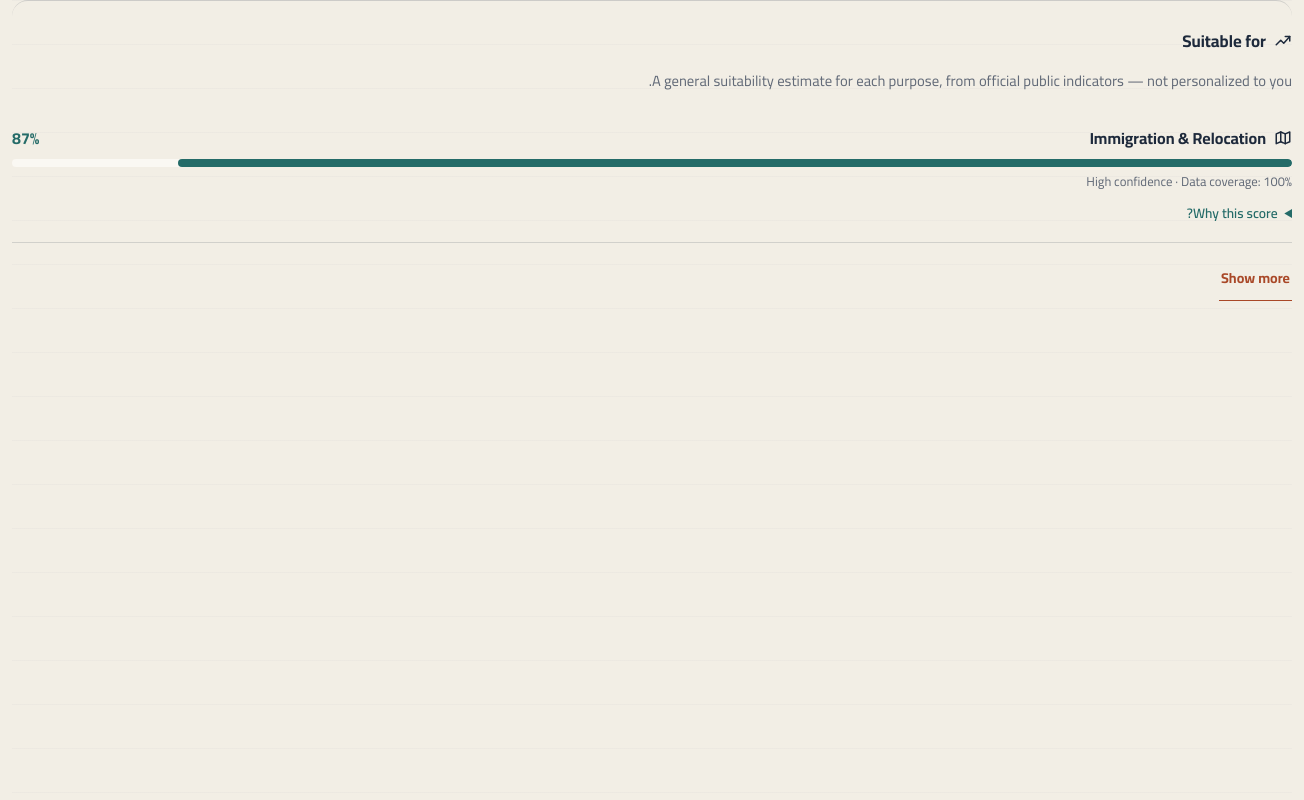
Test: CountrySuitability — highest purpose first with progressive disclosure › reveals every remaining purpose in descending score order, then collapses them again
The width and height of the screenshot is (1304, 800).
Click the button "Show more" at (1256, 279), box [1219,257,1292,301]
(page scrolled)
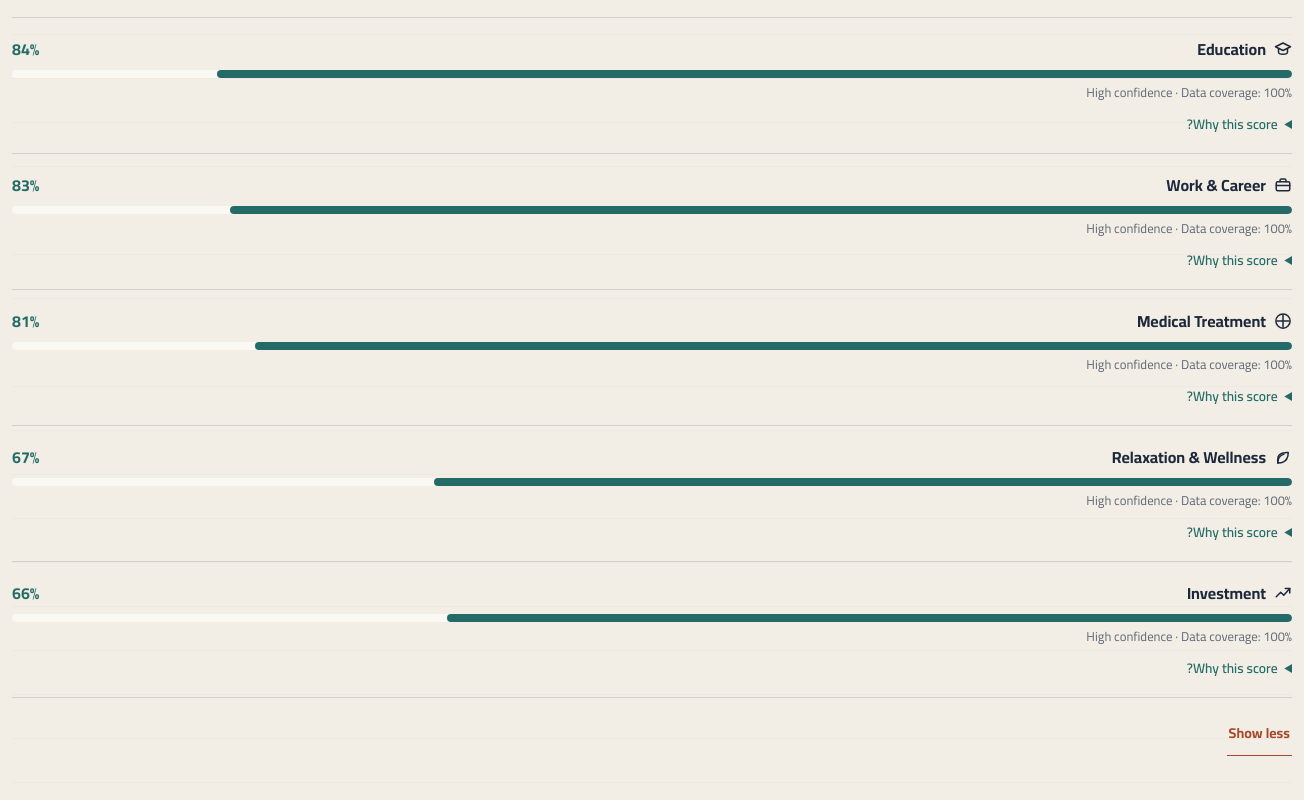
Check: the button "Show less" is expanded
Click the button "Show less" at (1259, 734), box [1227,712,1292,756]
(page scrolled)
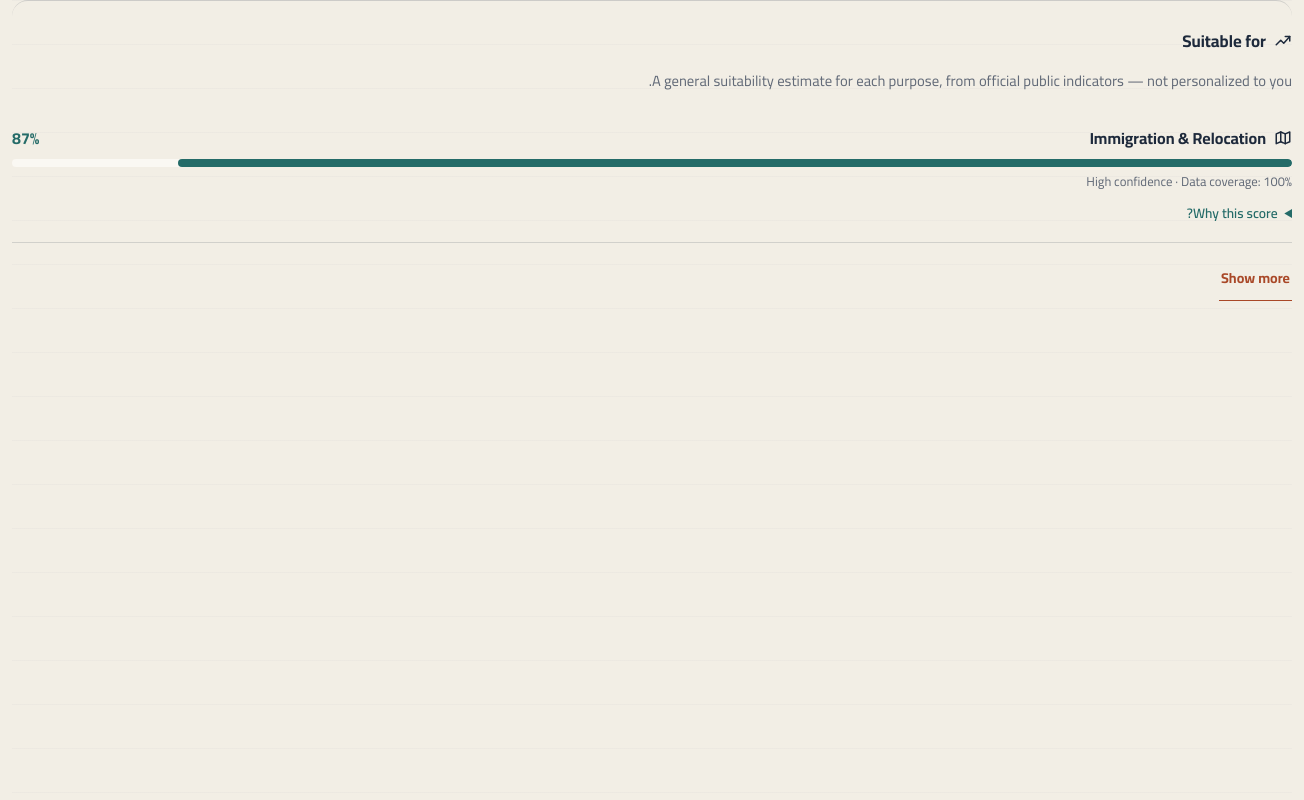
Check: the number of list items with class "suitability-row" is 1, box [12,107,1292,243]
